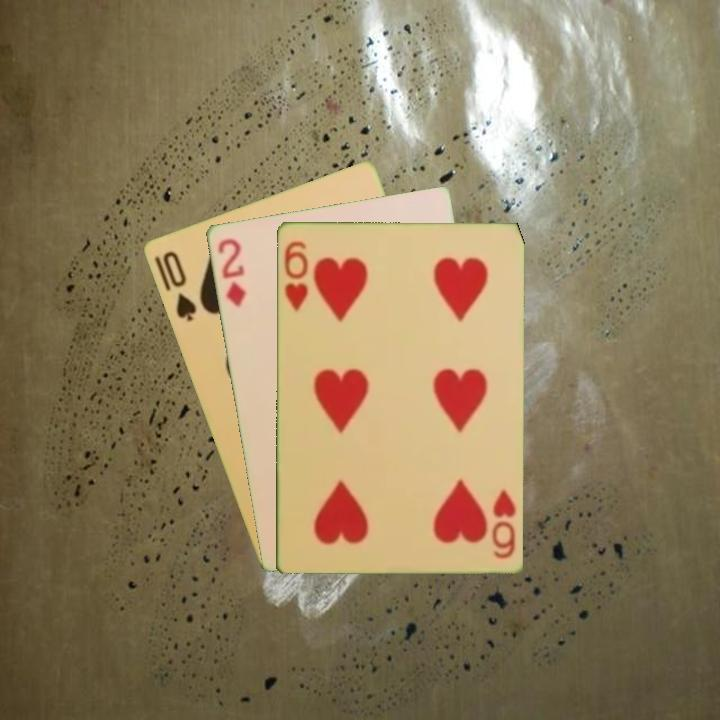10s: (158, 247, 199, 324)
2d: (214, 234, 248, 310)
6h: (280, 237, 311, 313), (488, 485, 518, 561)
